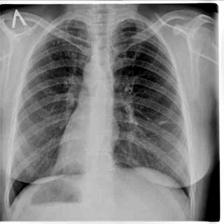tuberculosis: (5, 14, 194, 217)
